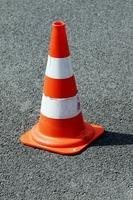traffic cone: (18, 20, 105, 156)
